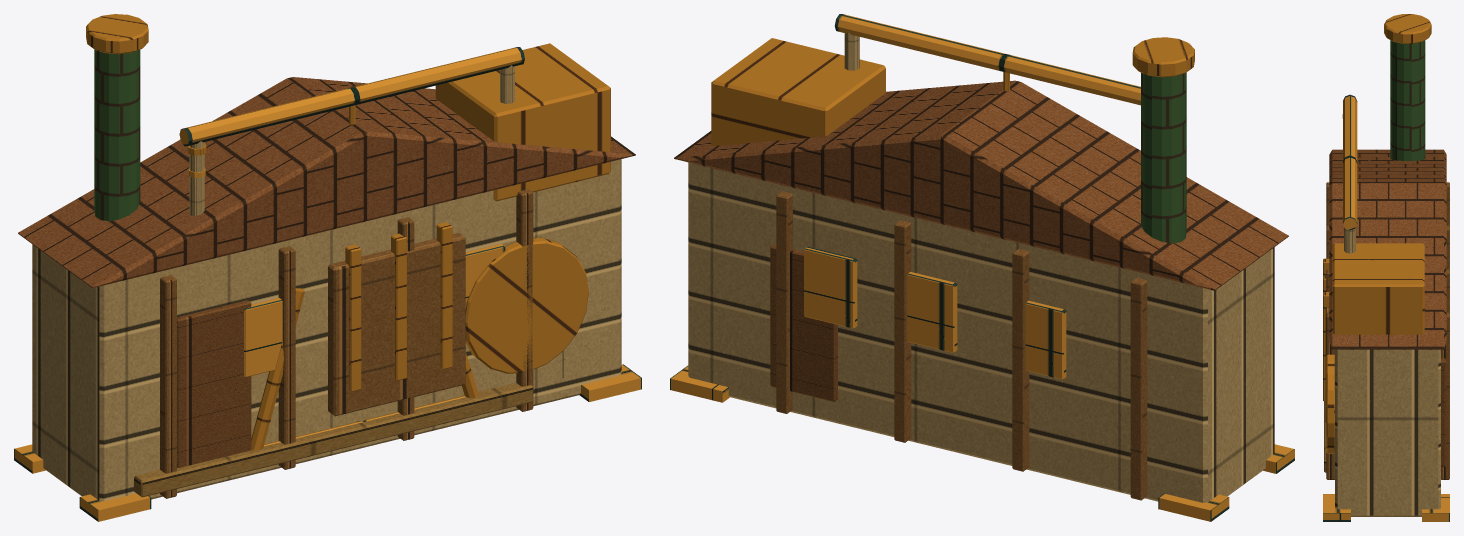
File: stamp-mill.e5.glb
3 renders of one model, left to right at view 1: azimuth 30°, elevation 25°; view 2: azimuth 150°, elevation 25°; view 3: azimuth 270°, elevation 25°, orthographic. The views are drawn at different scales.
Visible parts, largest first — view 1: StampMillE5; view 2: StampMillE5; view 3: StampMillE5.
Boxes of the visible parts, x1,y1,x2,y2 form: StampMillE5: (14,14,641,521); StampMillE5: (670,14,1294,521); StampMillE5: (1323,14,1449,521).
Size of the model in its own units: 5.95 by 4.56 by 1.6.
Materials: 1 (1 with a texture image).
